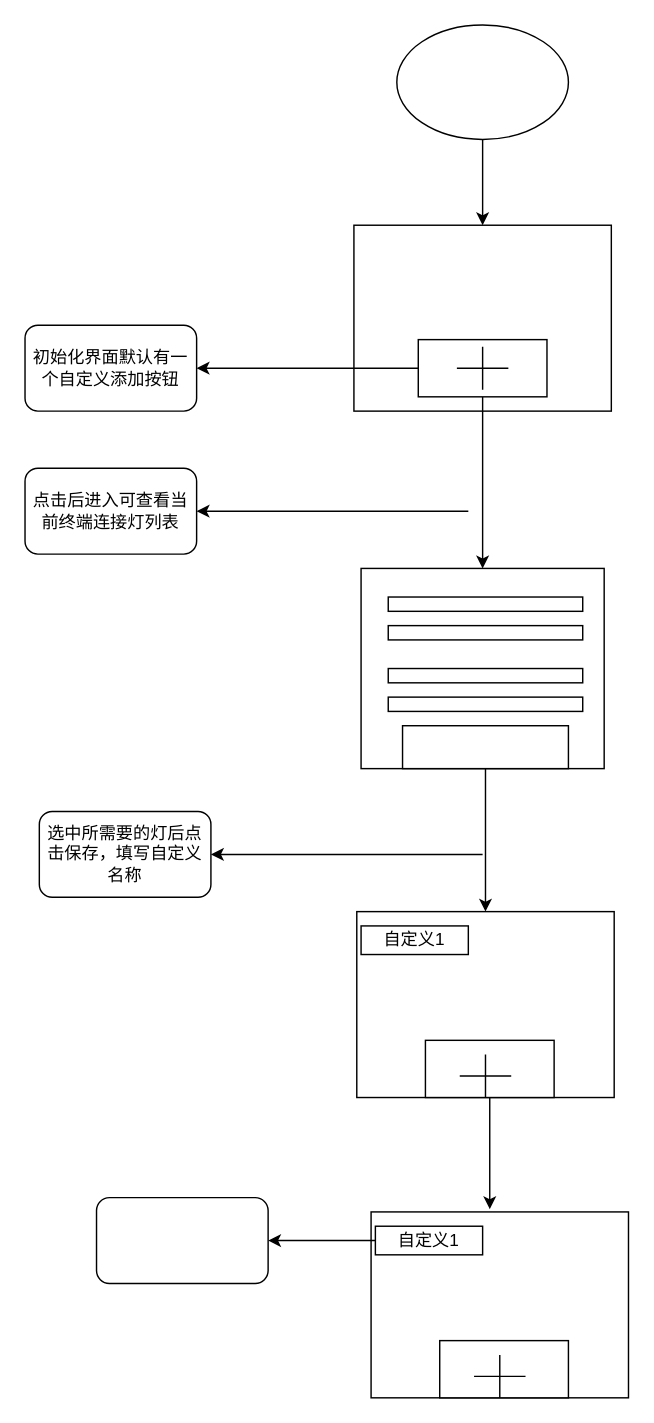
This 654x1423 diagram has some shape labels left out. The shapes that lost their labels are listed below. From the top down, each one's box as (x1, y1, x2, y2) in pixels, then its label:
(395, 24, 568, 139): 灯智能管控模块
(401, 724, 568, 769): 保存
(95, 1196, 268, 1283): 点击后可控制选中的灯开与关，长按后可重新定义控制的灯和名称
